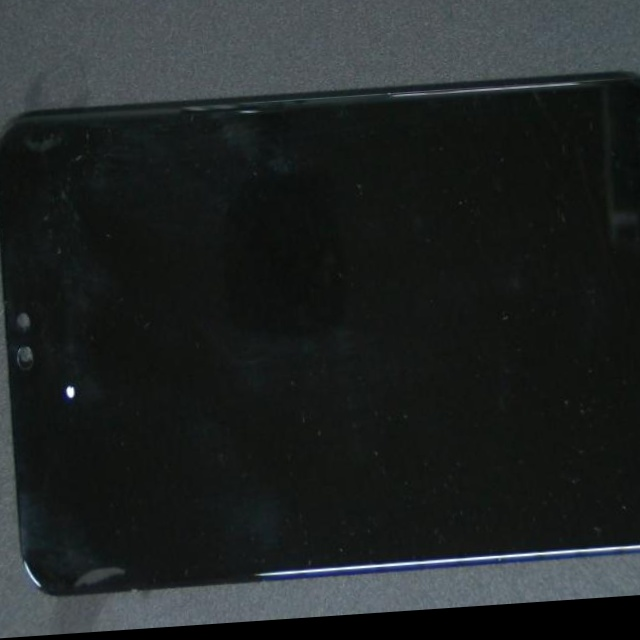stain: (22, 187, 159, 571)
